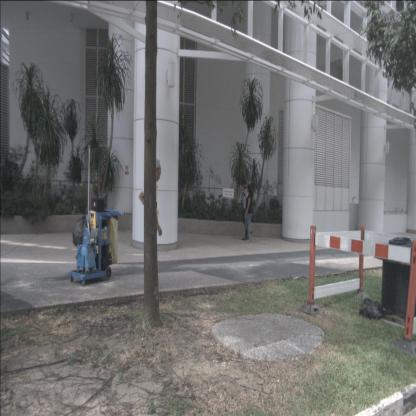barrier: (308, 225, 415, 339)
